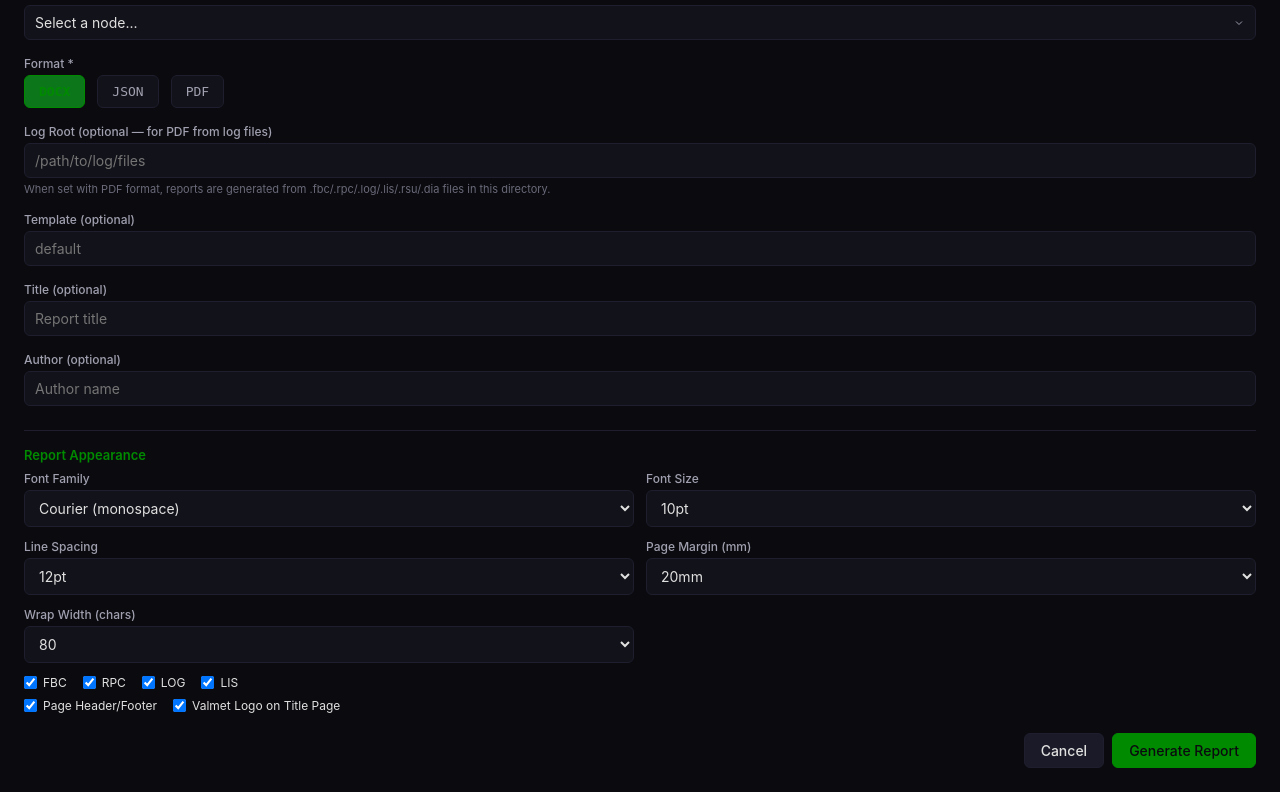
Test: ReportConfig › validates that node is required
(page scrolled)
// Submit without selecting a node
Click the button "Generate Report": (1184, 750) [1112,733,1256,768]
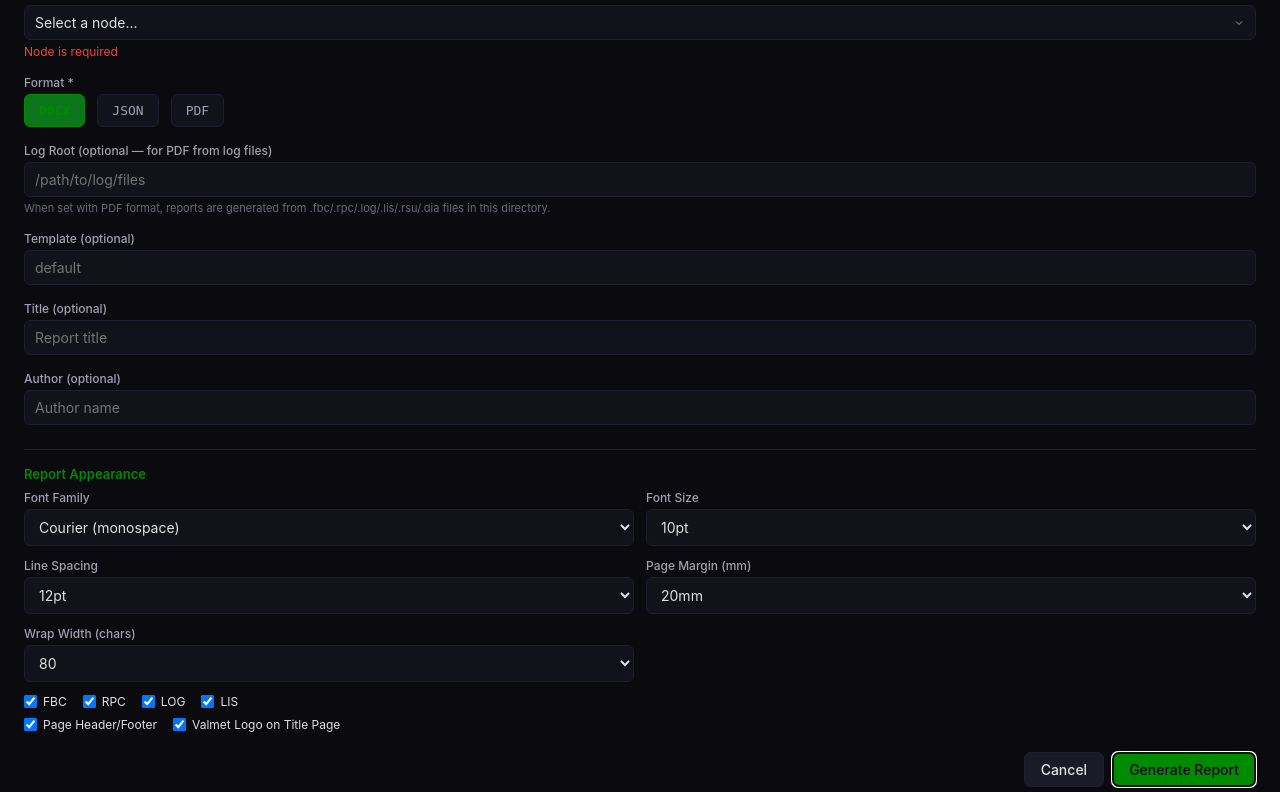
Check: the text "Node is required" is shown, box [24,44,118,59]
